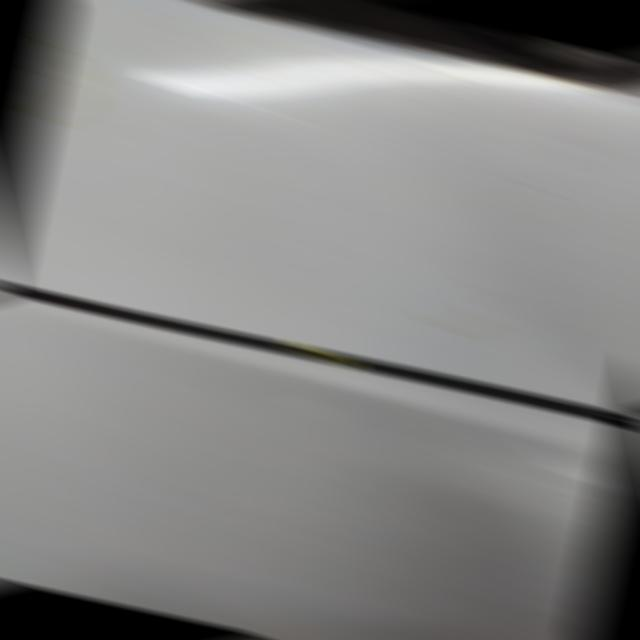yellow: (291, 344, 350, 366)
